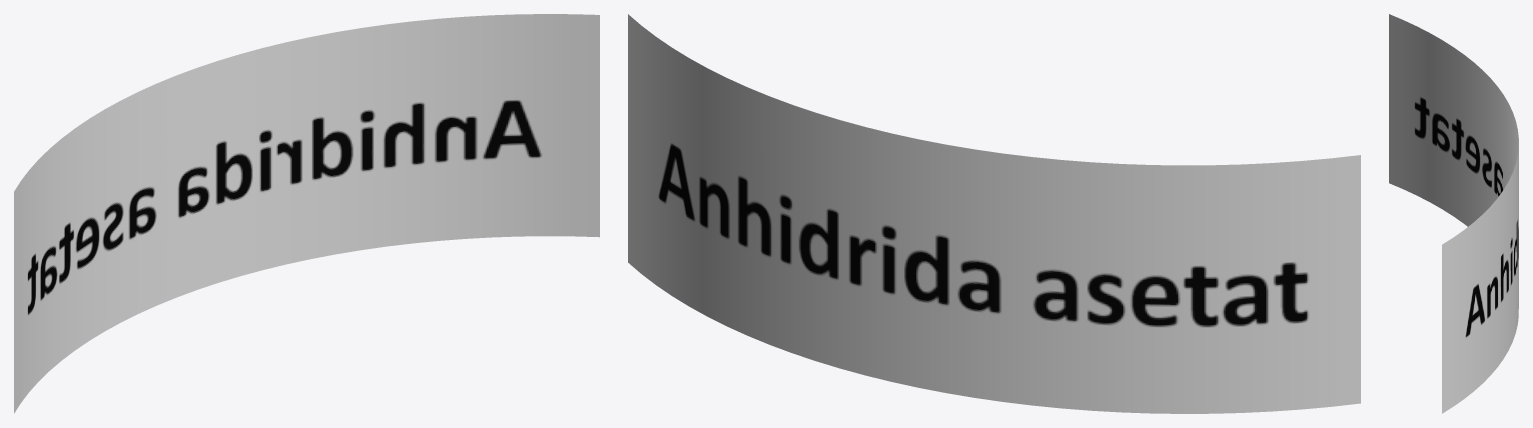
The model's file is label.fbx.
3 renders of one model, left to right at view 1: azimuth 30°, elevation 25°; view 2: azimuth 150°, elevation 25°; view 3: azimuth 270°, elevation 25°, orthographic. The views are drawn at different scales.
Parts seen in each view (by area): view 1: Cylinder.001; view 2: Cylinder.001; view 3: Cylinder.001.
Boxes of the visible parts, <box> form: Cylinder.001: <box>14,14,599,413</box>; Cylinder.001: <box>628,14,1360,413</box>; Cylinder.001: <box>1389,14,1518,413</box>.
Size of the model in its own units: 5.17 by 1.77 by 1.23.
